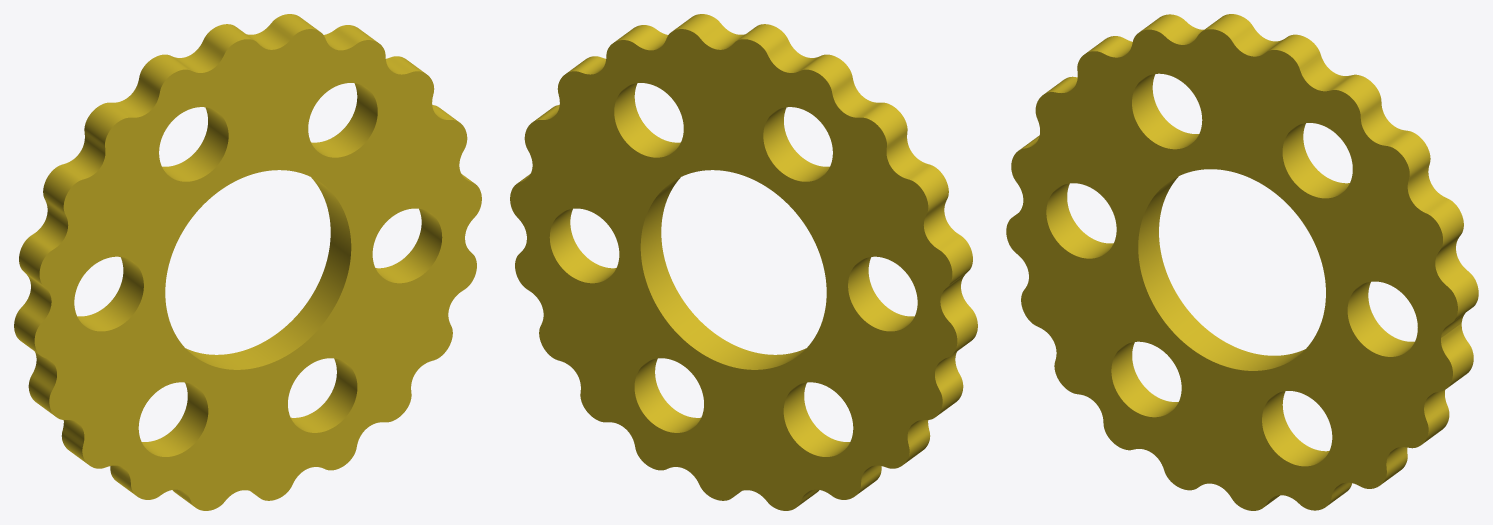
The model's file is cycloidal_disk____0.gltf.
3 views of the same model, side by side, from view 1: azimuth 30°, elevation 25°; view 2: azimuth 150°, elevation 25°; view 3: azimuth 330°, elevation 25° (orthographic).
Visible parts, largest first — view 1: mesh89, mesh90, mesh87, mesh91, mesh93, mesh92, mesh95, mesh94, mesh97, mesh96; view 2: mesh88, mesh90, mesh87, mesh91, mesh93, mesh92, mesh95, mesh94, mesh97, mesh96; view 3: mesh89, mesh90, mesh87, mesh91, mesh97, mesh95, mesh92, mesh94, mesh96, mesh93.
Part boxes in pixels (x1,y1,x2,y2): mesh89: [34, 29, 481, 510]; mesh90: [19, 14, 473, 302]; mesh87: [186, 177, 351, 369]; mesh91: [14, 288, 257, 506]; mesh93: [162, 107, 228, 181]; mesh92: [311, 83, 377, 157]; mesh95: [142, 382, 208, 456]; mesh94: [77, 257, 143, 331]; mesh97: [375, 209, 442, 283]; mesh96: [291, 358, 357, 432]; mesh88: [510, 29, 957, 510]; mesh90: [518, 14, 972, 302]; mesh87: [640, 177, 805, 369]; mesh91: [734, 288, 977, 506]; mesh93: [763, 107, 829, 181]; mesh92: [614, 83, 680, 157]; mesh95: [783, 382, 849, 456]; mesh94: [848, 257, 914, 331]; mesh97: [549, 209, 616, 283]; mesh96: [634, 358, 700, 432]; mesh89: [1006, 29, 1457, 510]; mesh90: [1020, 14, 1478, 337]; mesh87: [1138, 176, 1305, 370]; mesh91: [1014, 213, 1473, 506]; mesh97: [1347, 282, 1414, 356]; mesh95: [1111, 342, 1178, 417]; mesh92: [1282, 123, 1349, 198]; mesh94: [1046, 183, 1113, 258]; mesh96: [1262, 391, 1329, 466]; mesh93: [1132, 74, 1198, 149].
Bounding box in the file's own units: 0.0628 × 0.0628 × 0.005.
